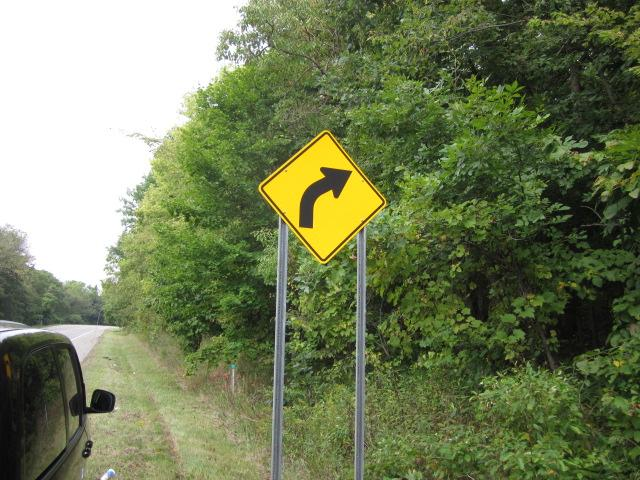warning: (259, 127, 386, 262)
